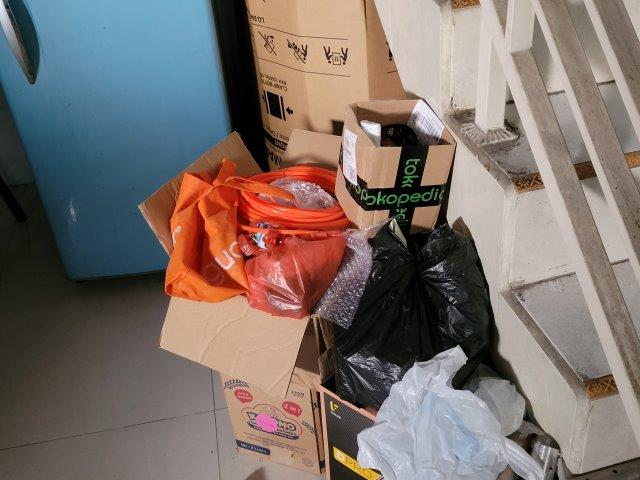kardus: (137, 128, 352, 467), (246, 8, 388, 137), (337, 99, 455, 231)
plastik: (358, 355, 530, 480), (376, 231, 490, 349)
